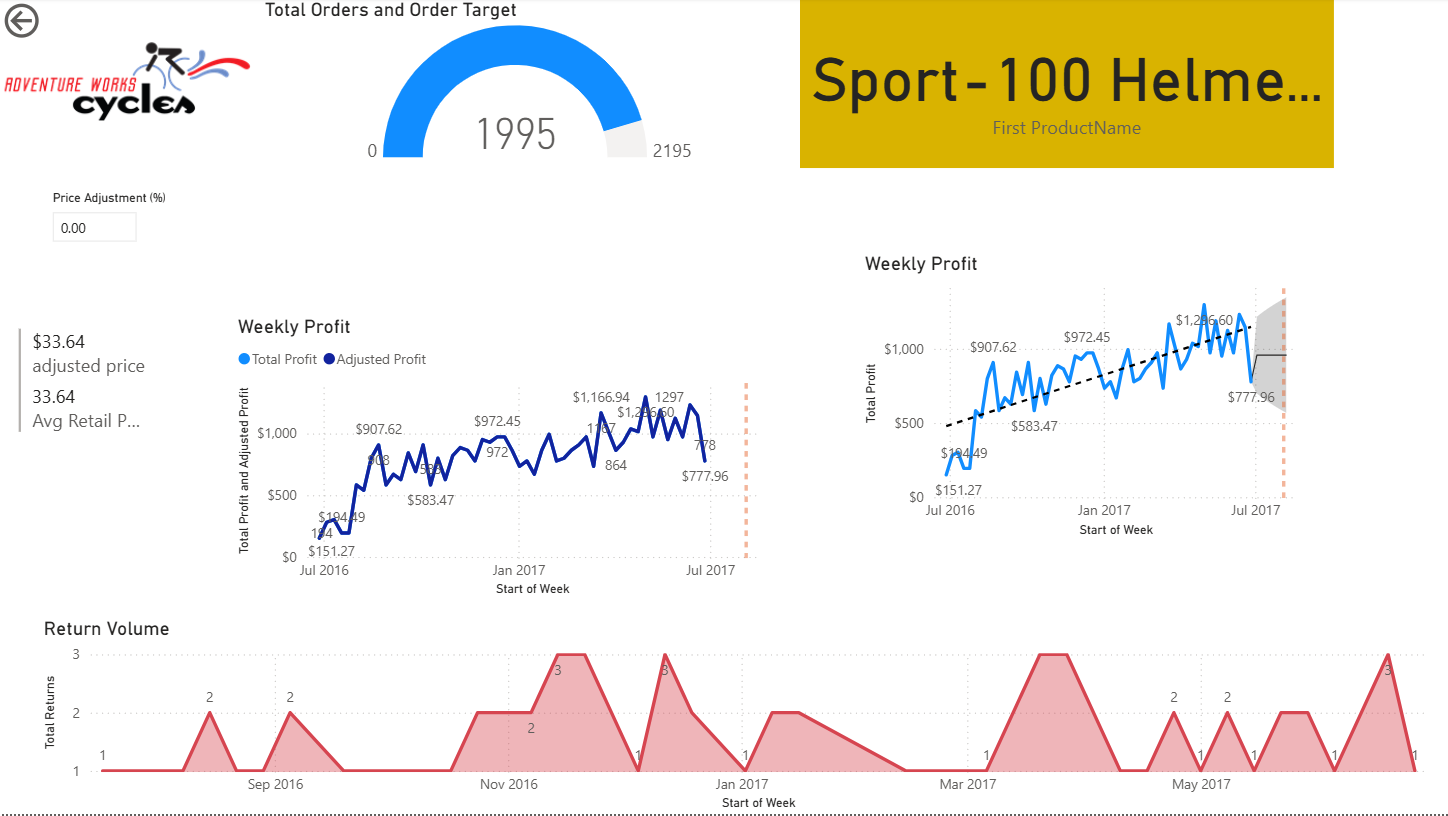

This screenshot's page, from the dashboard's own definition file:
{"tool":"powerbi","page":{"name":"Executive Summary","canvas":[1280,720],"ordinal":1},"visuals":[{"type":"image","box":[0,0,228.9,146.9],"z":0},{"type":"lineChart","title":"Weekly Profit","fields":{"Y":["AW_Sales.Total Profit"],"Category":["AW_Calendar_Lookup.Start of Week"]},"box":[758.3,224.3,403.9,255.3],"z":1000},{"type":"areaChart","title":"Return Volume","fields":{"Category":["AW_Calendar_Lookup.Start of Week"],"Y":["AW_Returns.Total Returns"]},"box":[34,545.6,1245.6,174.8],"z":2000},{"type":"gauge","fields":{"Y":["AW_Sales.Total Orders"],"MaxValue":["AW_Sales.Order Target"]},"box":[229.1,0,477.7,150.5],"z":3000},{"type":"card","fields":{"Values":["Min(AW_Products_Lookup.ProductName)"]},"box":[706.8,0,470.9,150.5],"z":4000},{"type":"actionButton","box":[0,0,100,40],"z":5000},{"type":"slicer","fields":{"Values":["Price Adjustment (%).Price Adjustment (%)"]},"box":[34,165,300,71.8],"z":6000},{"type":"multiRowCard","fields":{"Values":["AW_Sales.adjusted price","AW_Sales.Avg Retail Price"]},"box":[12.6,286.4,122.3,119.4],"z":7000},{"type":"lineChart","title":"Weekly Profit","fields":{"Y":["AW_Sales.Total Profit","AW_Sales.Adjusted Profit"],"Category":["AW_Calendar_Lookup.Start of Week"]},"box":[205.8,279.6,480.6,252.4],"z":8000}]}

Visuals, with their boxes in screenshot pixels (x1, y1, x2, y2), scaled from the page's 1280x720 canvas onto the 1448x816 screenshot:
image: detection(0, 0, 259, 166)
"Weekly Profit" lineChart: detection(858, 254, 1315, 544)
"Return Volume" areaChart: detection(38, 618, 1447, 815)
gauge - AW_Sales.Total Orders x AW_Sales.Order Target: detection(259, 0, 800, 171)
card - Min(AW_Products_Lookup.ProductName): detection(800, 0, 1332, 171)
actionButton: detection(0, 0, 113, 45)
slicer - Price Adjustment (%).Price Adjustment (%): detection(38, 187, 378, 268)
multiRowCard - AW_Sales.adjusted price x AW_Sales.Avg Retail Price: detection(14, 325, 153, 460)
"Weekly Profit" lineChart: detection(233, 317, 776, 603)
